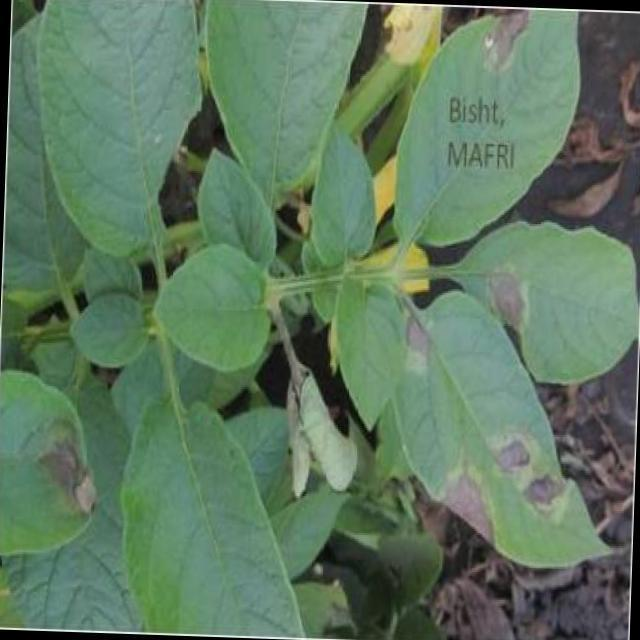Healthy Leaf: (122, 392, 296, 639), (32, 0, 200, 251), (138, 254, 284, 368), (336, 274, 408, 428), (197, 149, 280, 266), (314, 122, 378, 272), (66, 288, 154, 368)
